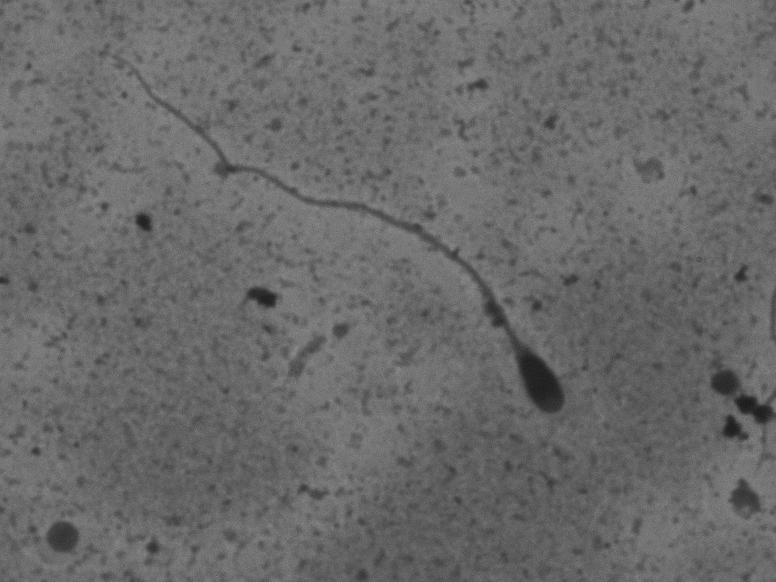Abnormal: (58, 28, 639, 427)
